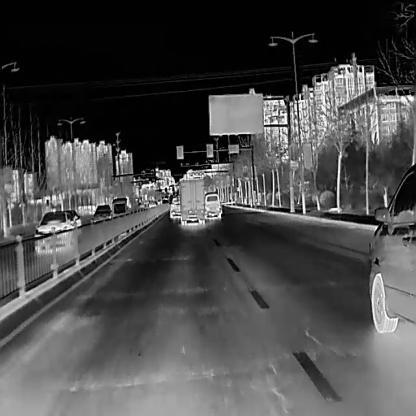car: (368, 163, 416, 333), (33, 210, 76, 254), (178, 179, 204, 225), (203, 191, 221, 219), (90, 203, 111, 223), (111, 196, 128, 218), (168, 197, 180, 219), (149, 201, 158, 210)
